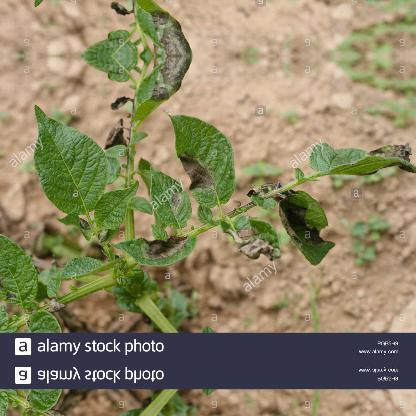Late-Blight: (171, 107, 243, 210), (278, 188, 346, 272), (108, 230, 200, 268)
